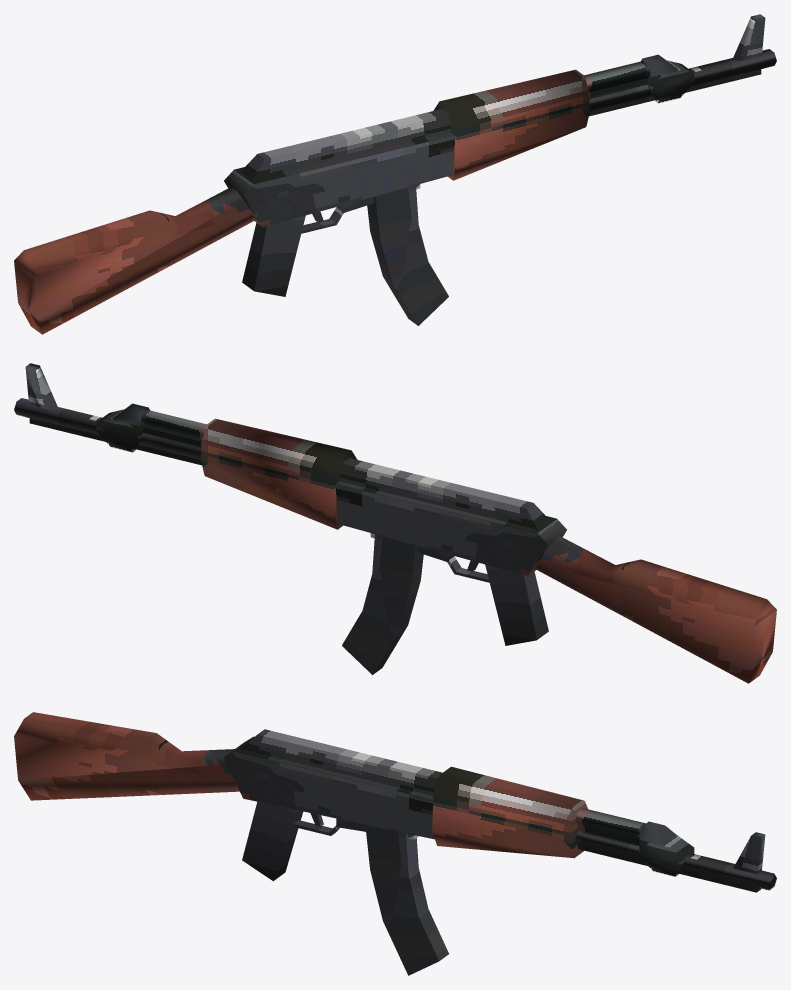
The picture shows the model from 3 angles, top to bottom: view 1: azimuth 30°, elevation 25°; view 2: azimuth 150°, elevation 25°; view 3: azimuth 330°, elevation 25°; orthographic projection.
Visible parts, largest first — view 1: ak47; view 2: ak47; view 3: ak47.
Boxes of the visible parts, box(x1,y1,x2,y2) form: ak47: box(14, 14, 776, 334); ak47: box(14, 363, 776, 683); ak47: box(14, 712, 776, 975).
Size of the model in its own units: 88.65 by 25.08 by 5.4.
1 material, 1 textured.
